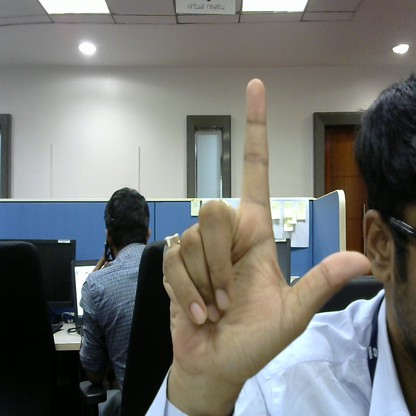l: (151, 75, 372, 374)
